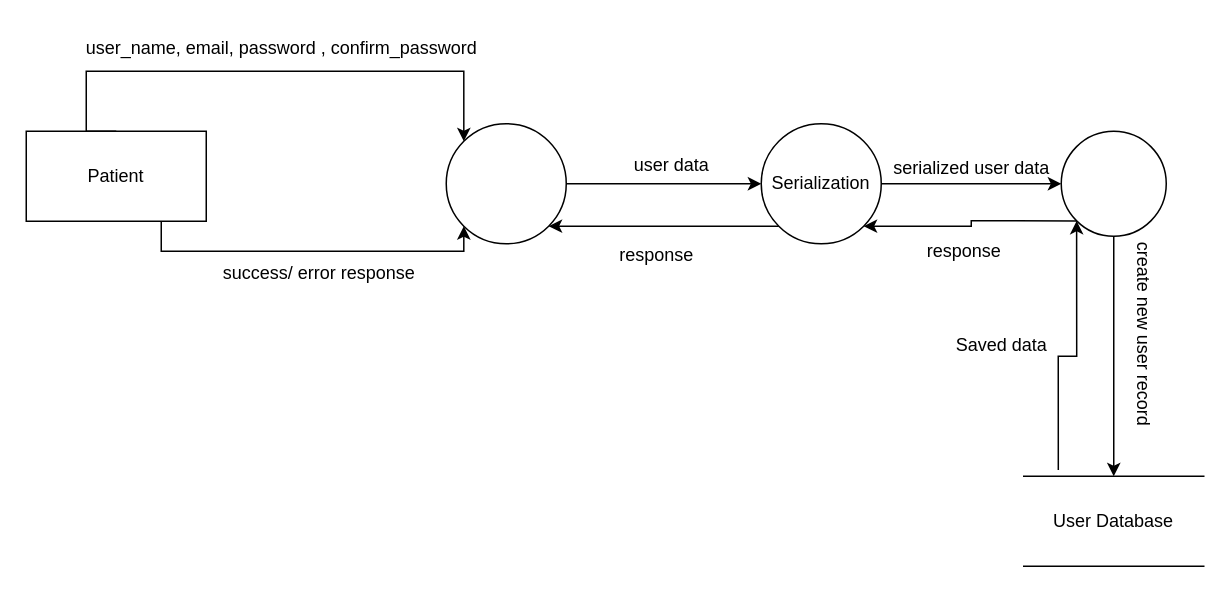
This 1230x593 diagram has some shape labels left out. The shapes that lost their labels are listed below. From the top down, each one's centre as x and y in pixels, then its label:
At point 505,183: "User registration".
At point 1113,183: "Save User Data".
